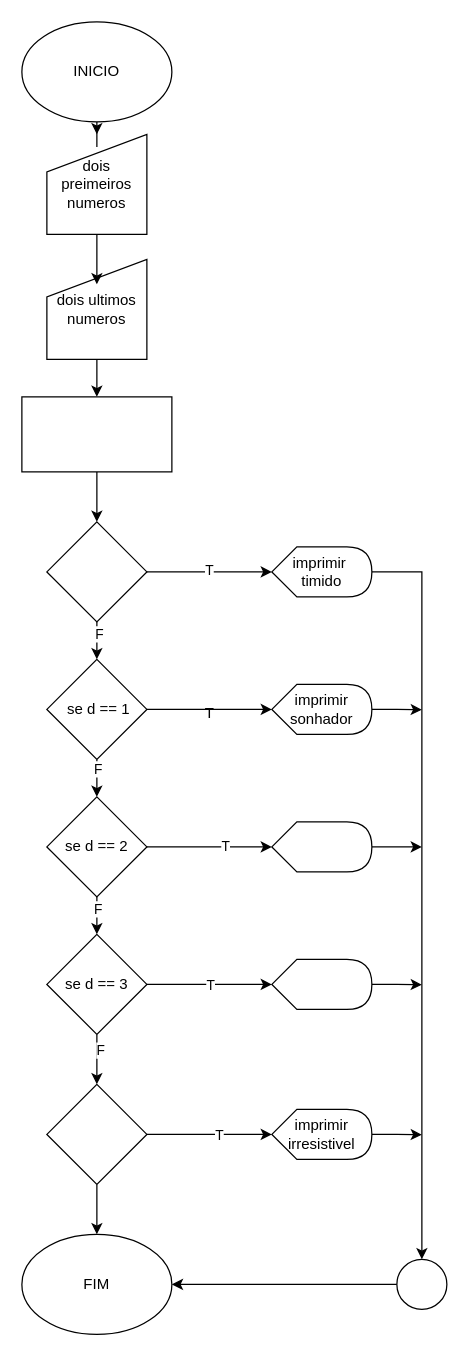
This 469x1356 diagram has some shape labels left out. The centre of each missing label's shape, as x and y in pixels:
c = (a + b) / 5 d = (a +b) - (5 * c): the point at 96,434
imprimir atraente: the point at 321,983
imprimir paquerador: the point at 321,846
se d == 0: the point at 96,571
se d == 4: the point at 96,1133
